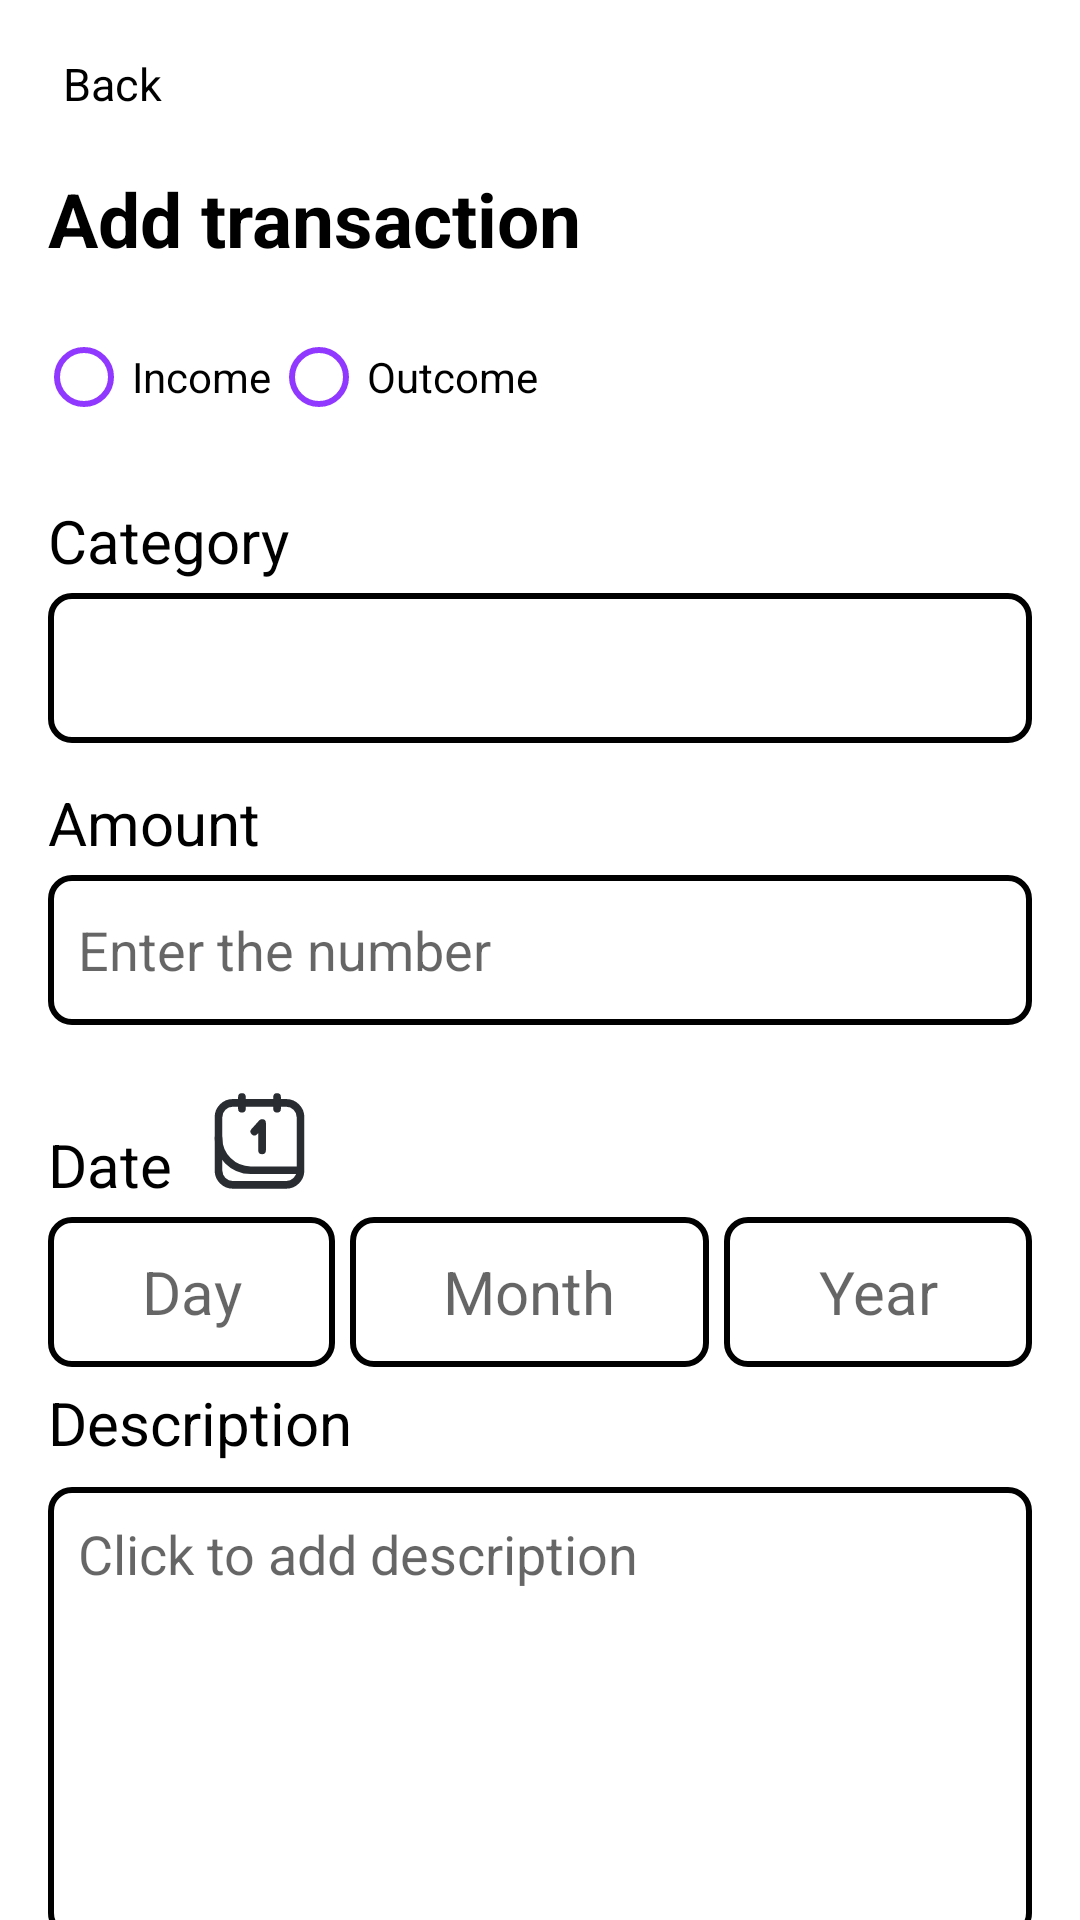

Where to tap for icons on this 1080x1920 app screen, as [x,y]:
calender: [259,1141]
